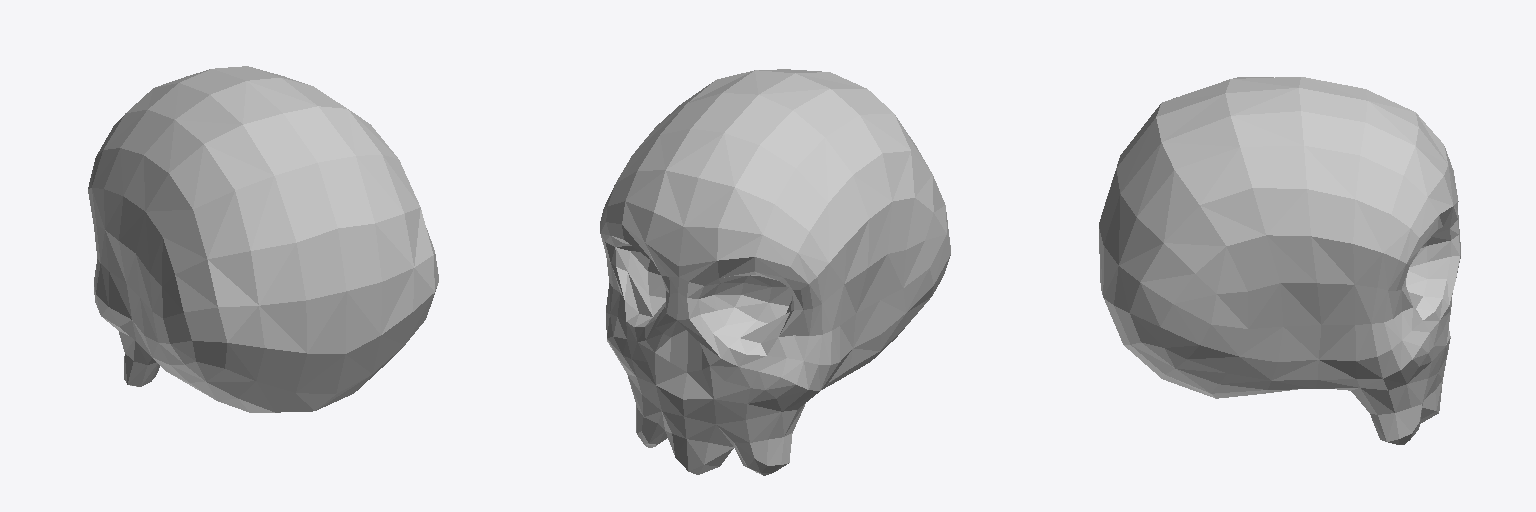
File: Skull.obj
3 views of the same model, side by side, from view 1: azimuth 30°, elevation 25°; view 2: azimuth 150°, elevation 25°; view 3: azimuth 270°, elevation 25° (orthographic).
Parts seen in each view (by area): view 1: ZBrush_defualt_group; view 2: ZBrush_defualt_group; view 3: ZBrush_defualt_group.
Boxes of the visible parts, x1=… form: ZBrush_defualt_group: x1=88, y1=66, x2=438, y2=412; ZBrush_defualt_group: x1=600, y1=69, x2=950, y2=475; ZBrush_defualt_group: x1=1099, y1=77, x2=1460, y2=444.
Size of the model in its own units: 1.49 by 1.88 by 1.84.